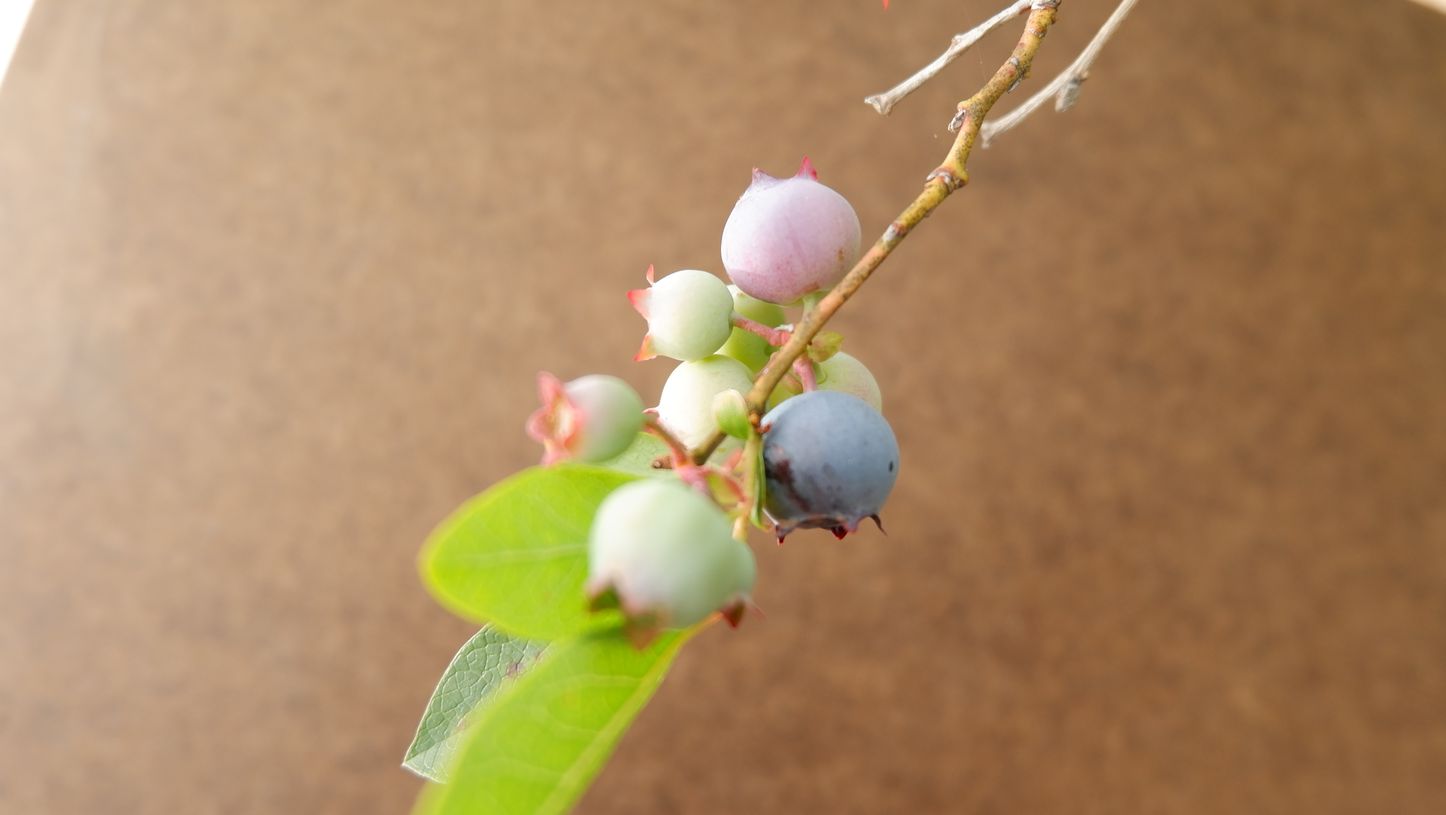Immature: (587, 478, 735, 650), (721, 157, 861, 307), (644, 354, 774, 468), (524, 373, 646, 463), (625, 264, 735, 361), (769, 352, 881, 410), (713, 285, 786, 373), (719, 538, 767, 630)
Mature: (760, 390, 902, 548)
